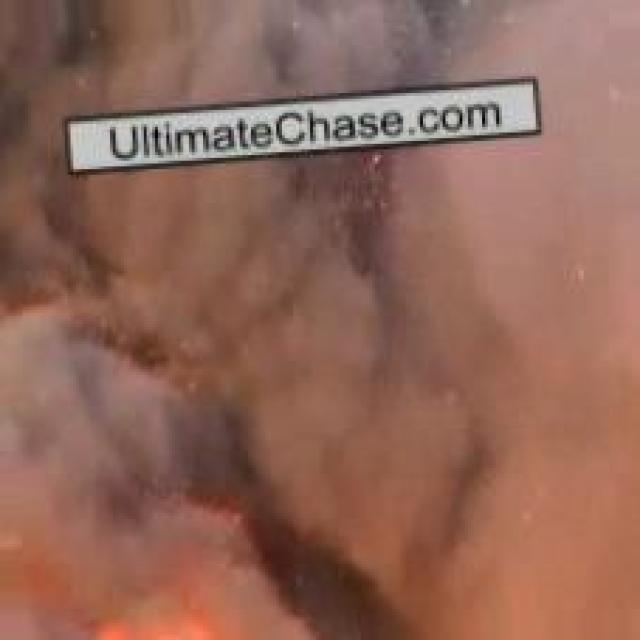smoke: (35, 12, 608, 612)
